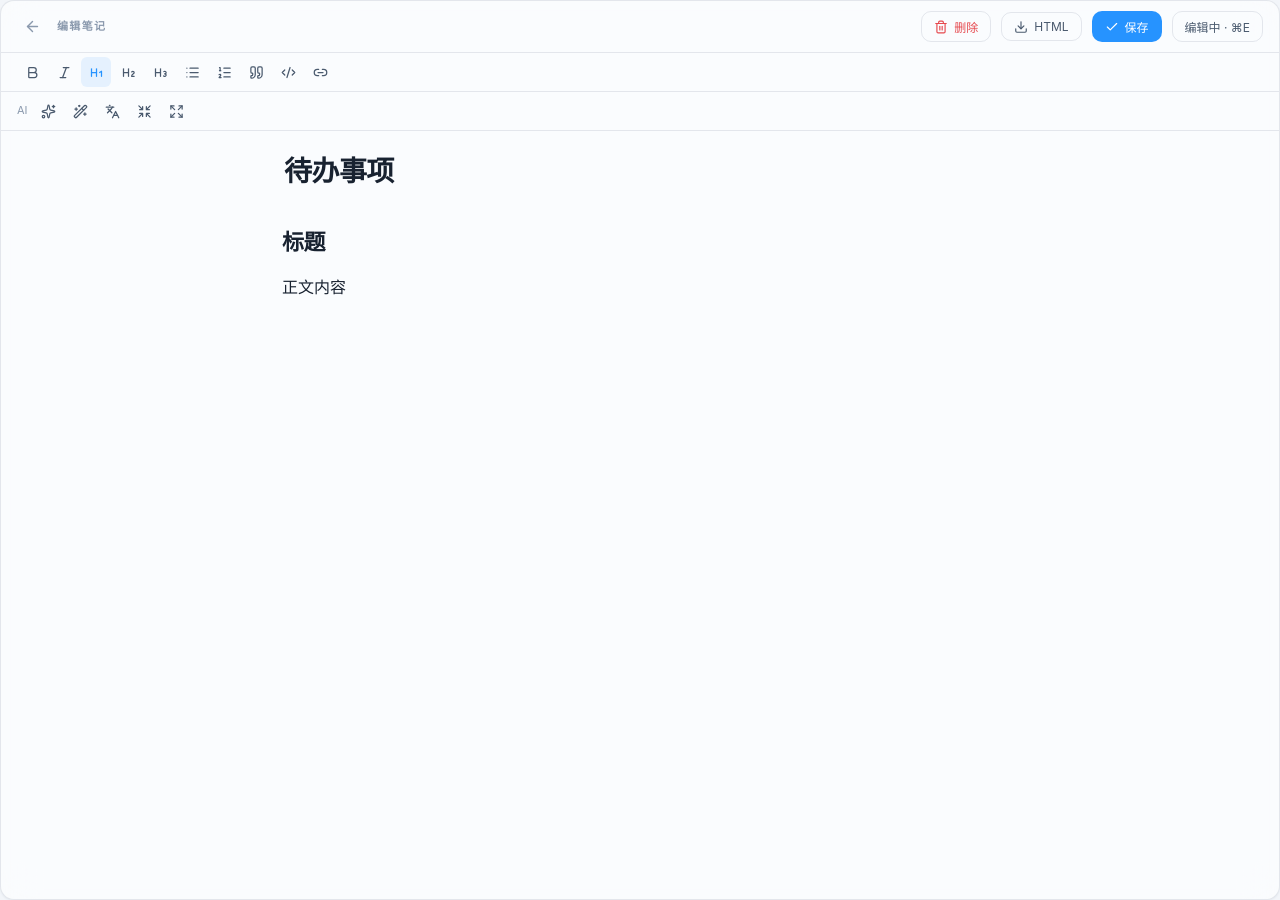
NoteEditor › toggles read mode via ⌘E and button label
The image size is (1280, 900).
Click the button titled "⌘E 切换编辑 / 阅读" at {"x": 1217, "y": 26}, box [1172,11,1263,42]
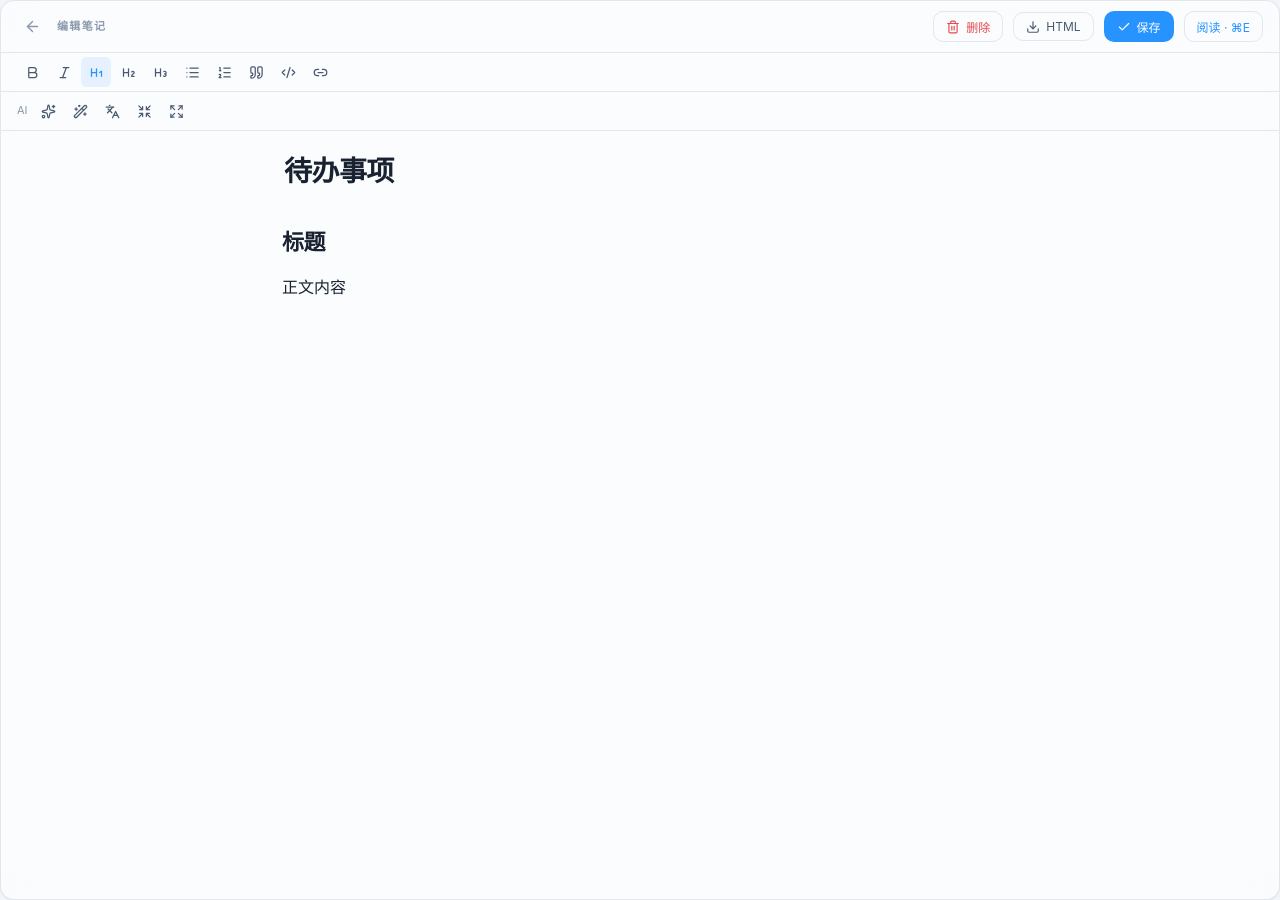
Now the button titled "⌘E 切换编辑 / 阅读" is shown
Click the button titled "⌘E 切换编辑 / 阅读" at {"x": 1223, "y": 26}, box [1184,11,1263,42]
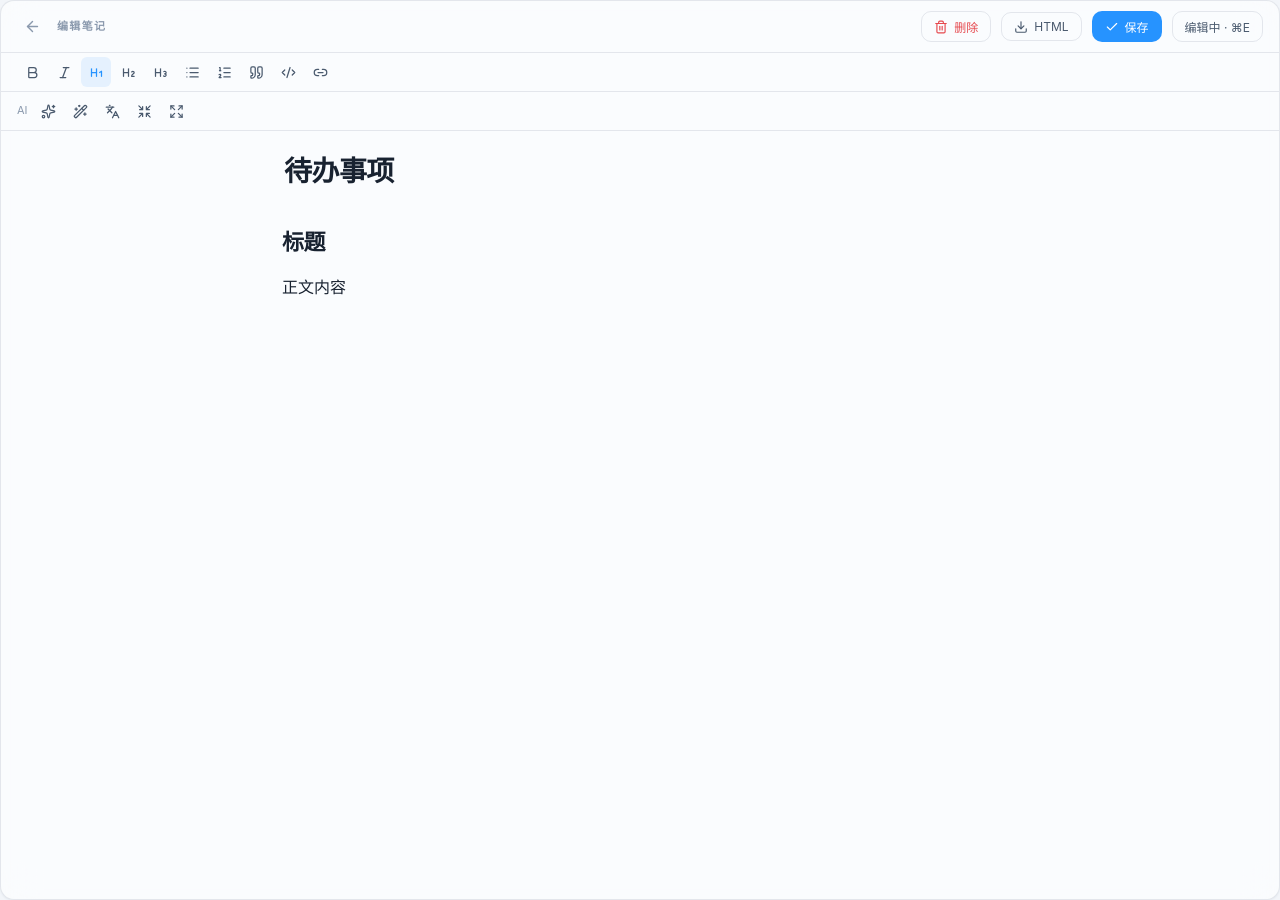
Now the button titled "⌘E 切换编辑 / 阅读" shows "编辑中", box [1172,11,1263,42]
